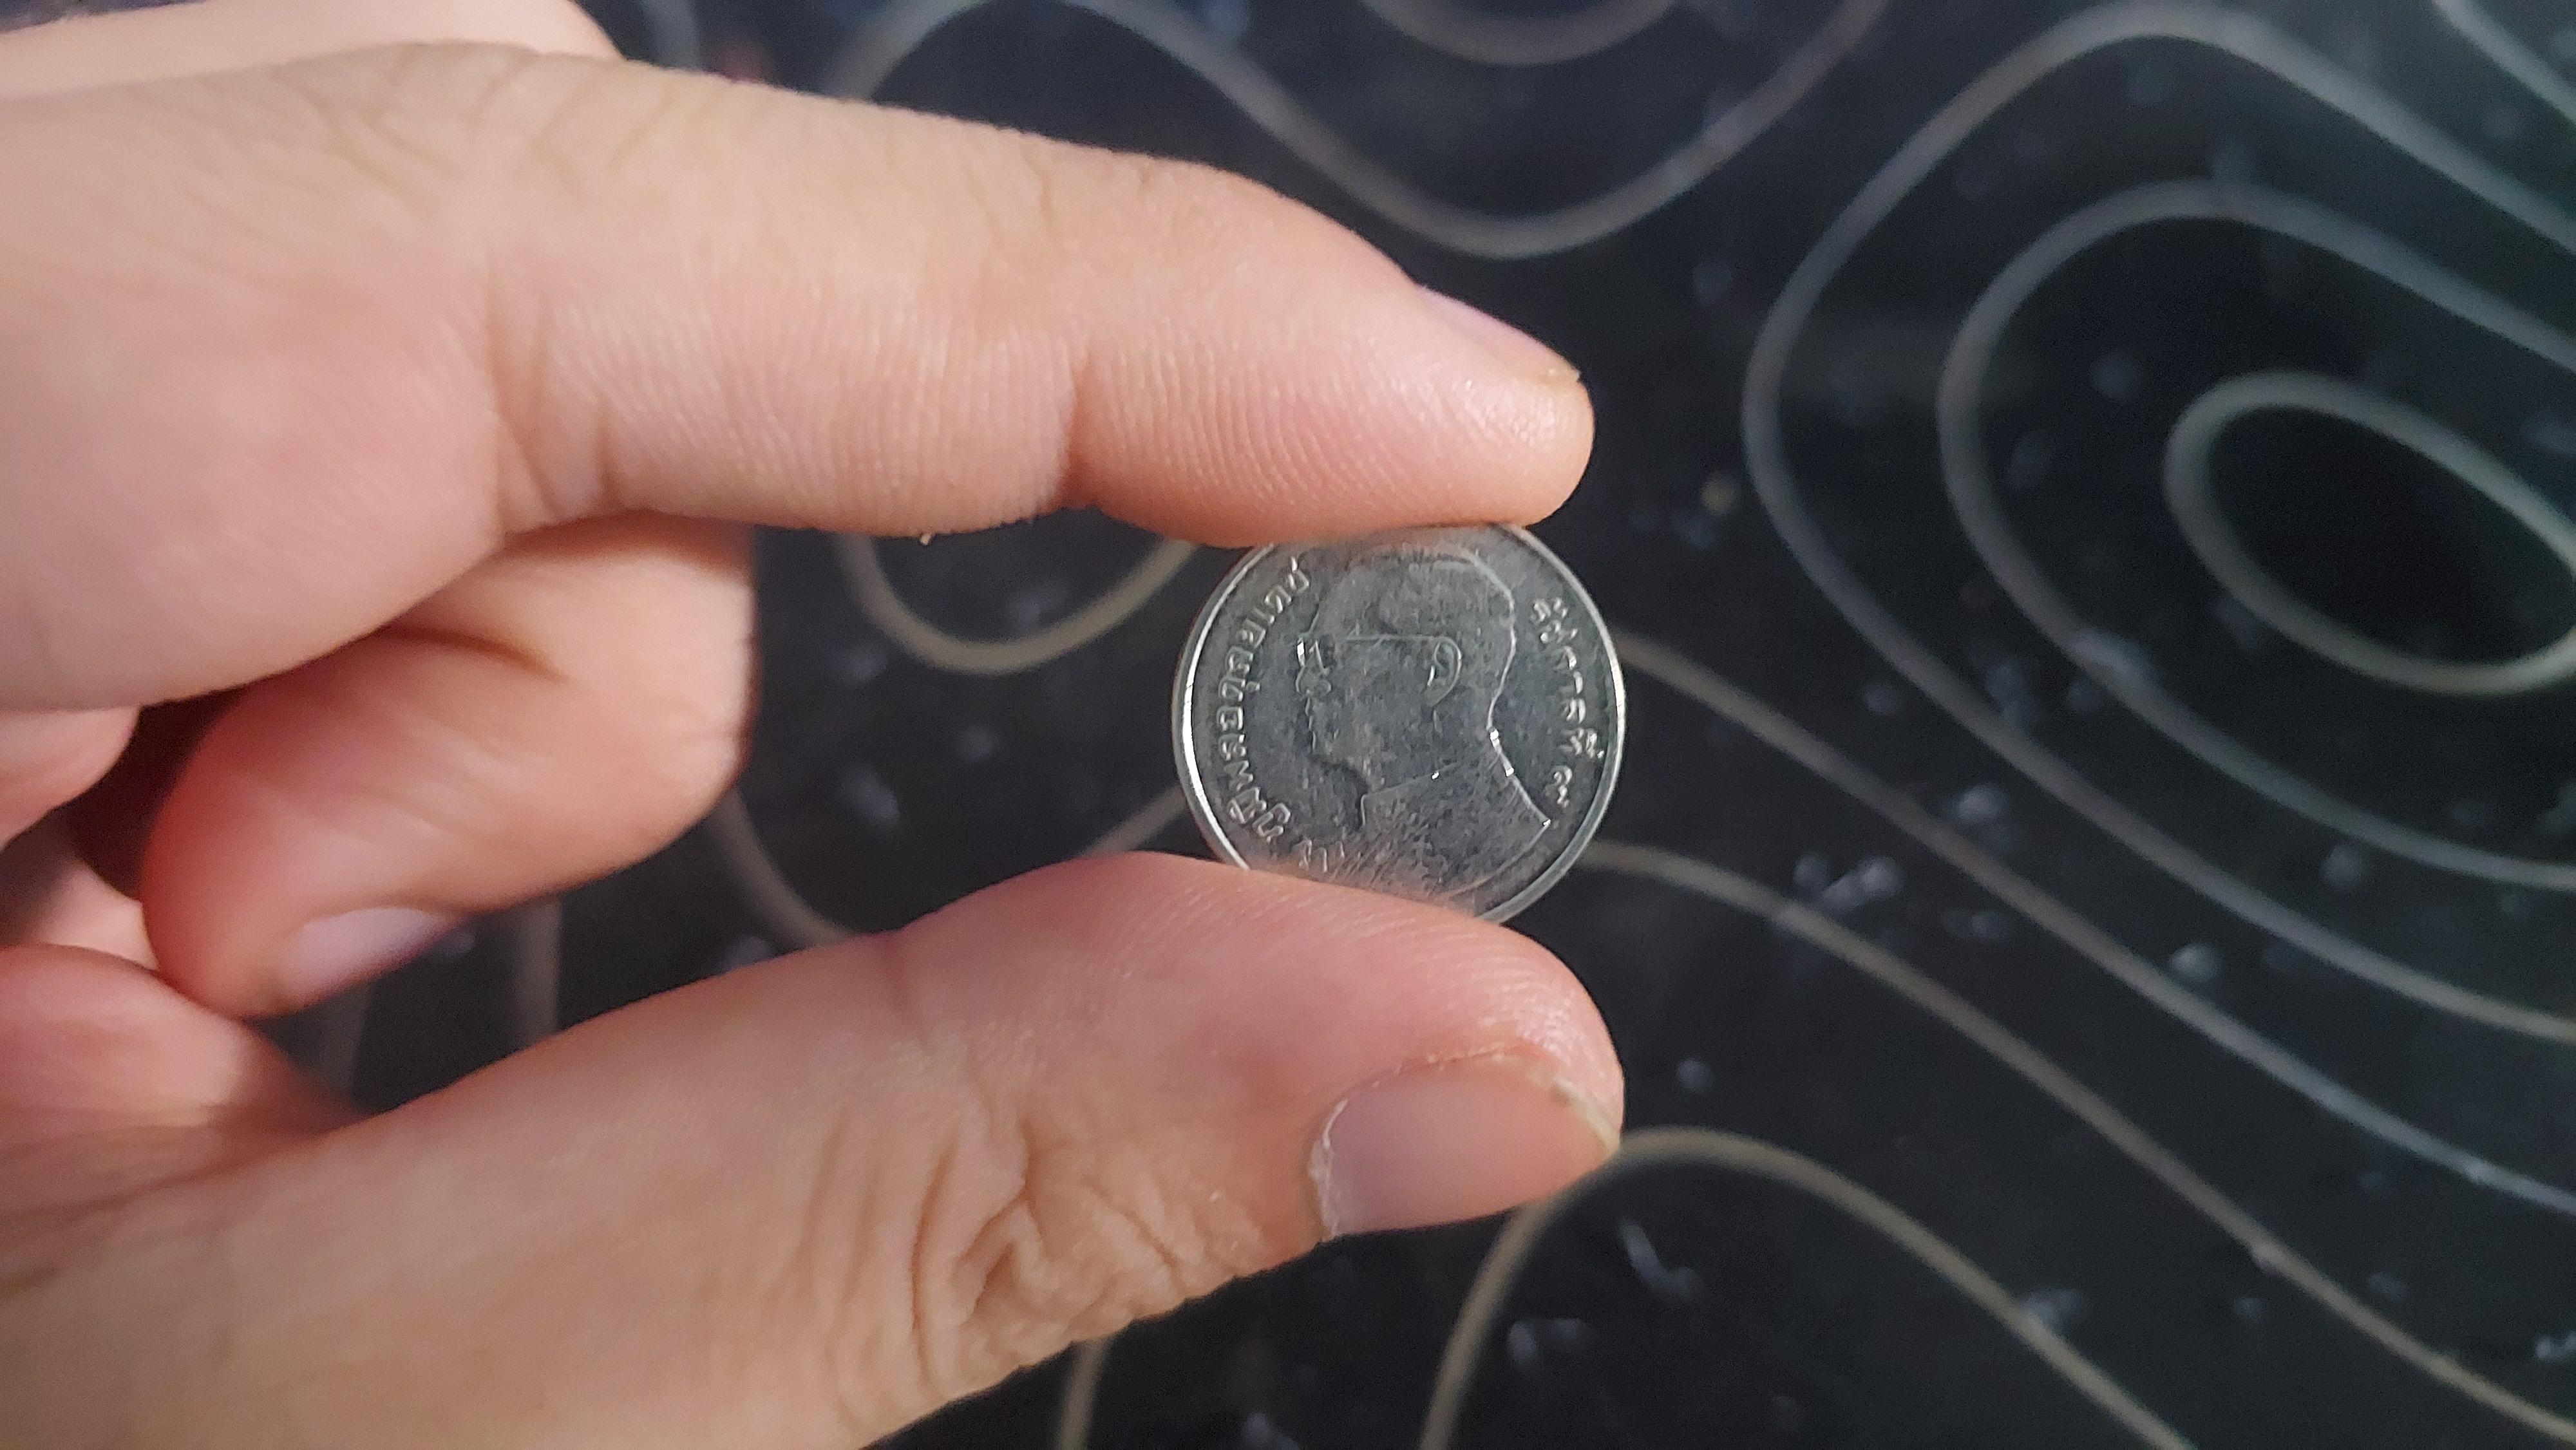1baht: (1155, 354, 1670, 985)
